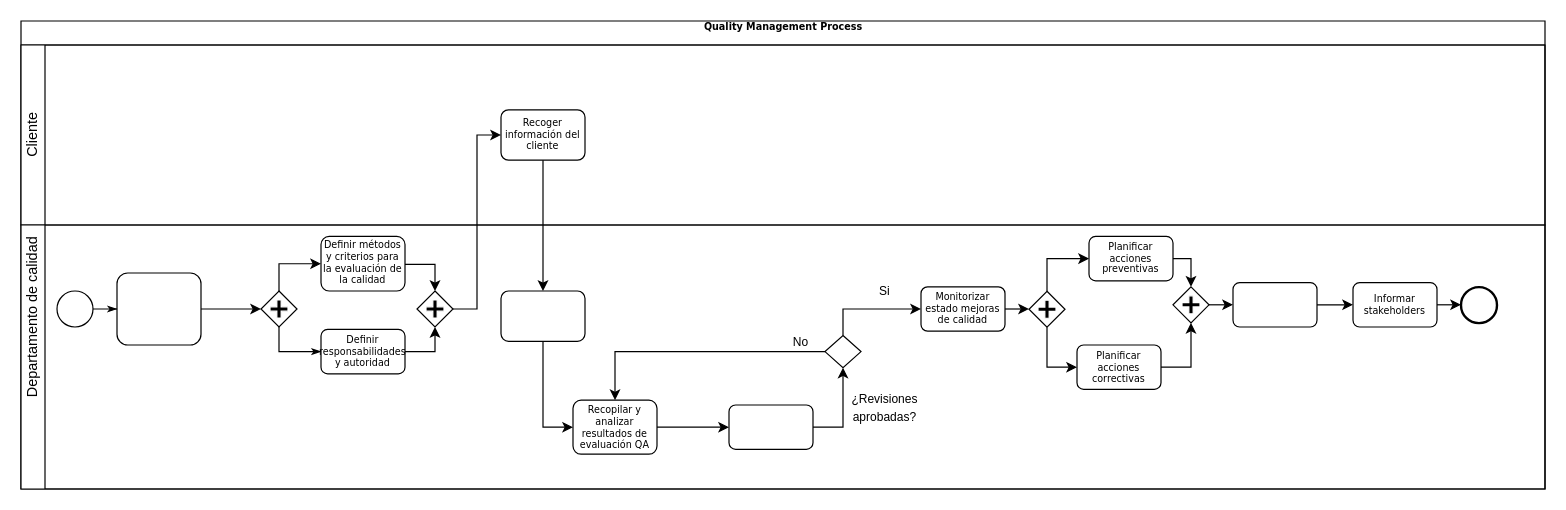
The diagram is 1566 pixels wide and 510 high, and some of its shapes have lost their labels. Each missing label, with the box of its shape:
Definir políticas, objetivos y procedimientos de gestión de calidad: (116, 272, 201, 345)
Evaluar la satisfacción del cliente: (500, 290, 585, 341)
Monitorizar acciones: (1232, 281, 1317, 327)
Revisiones periódicas QA: (728, 404, 813, 449)
